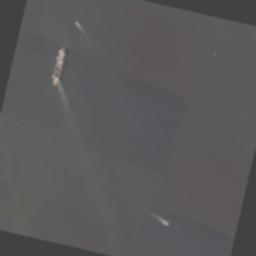boat: (48, 45, 68, 87), (73, 19, 79, 26), (161, 221, 169, 226)
